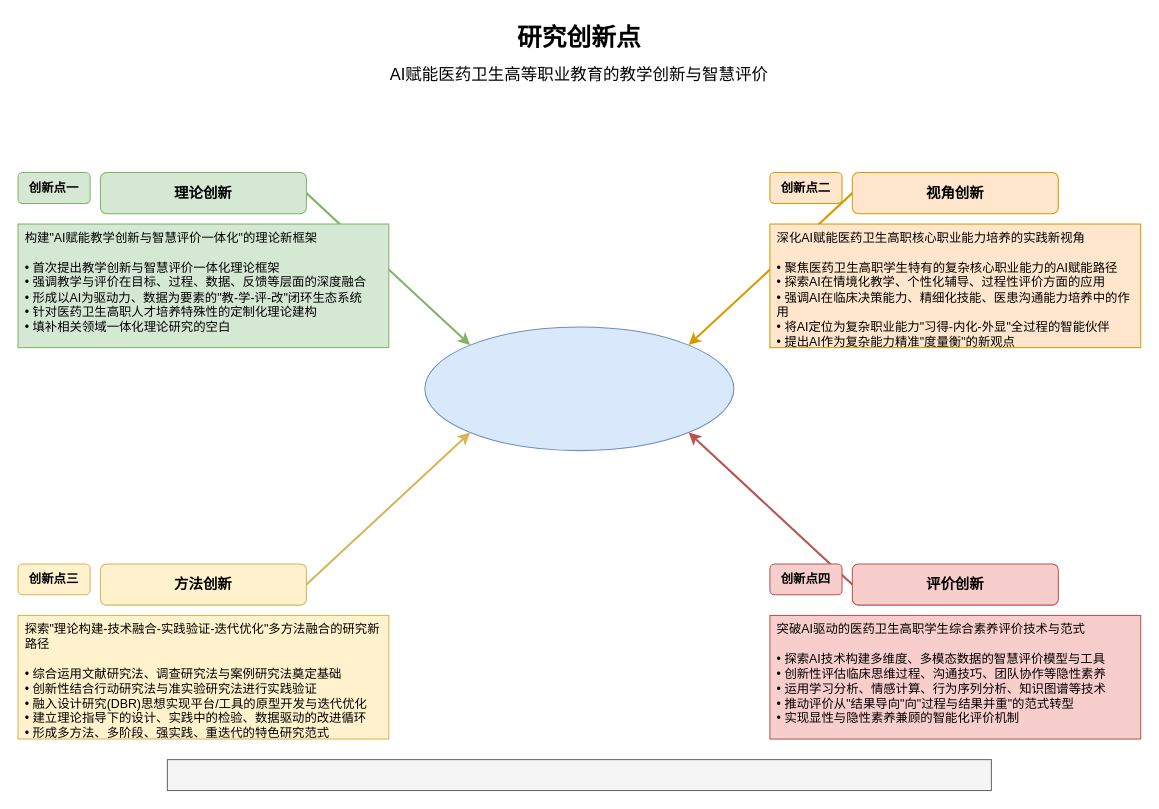
Some shapes in this 1159 by 809 pixel diagram are drawn without their labels. The shapes that lost their labels are listed below. From the top down, each one's centre as x and y in pixels, then its label:
At (579,388): "AI赋能医药卫生高职教育的 教学创新与智慧评价".
At (578,775): "研究亮点：打通教学创新与智慧评价，形成AI驱动的一体化闭环生态系统，实现医药卫生高职人才培养质量提升".
